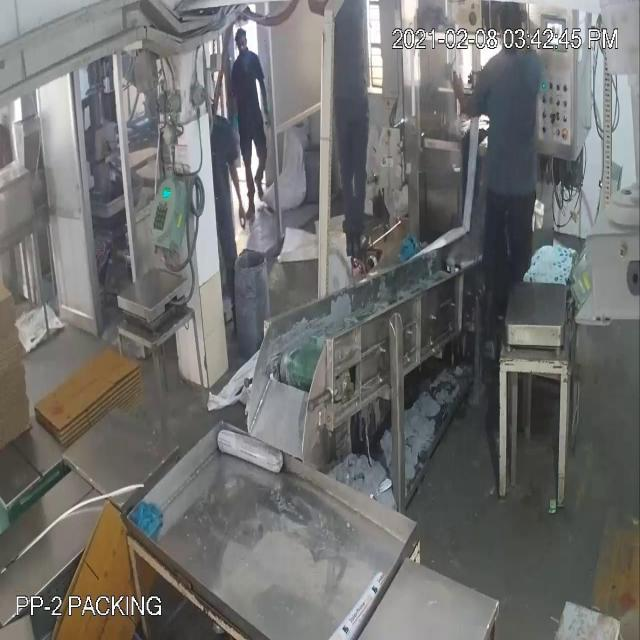No_Gloves: (24, 81, 464, 194)
